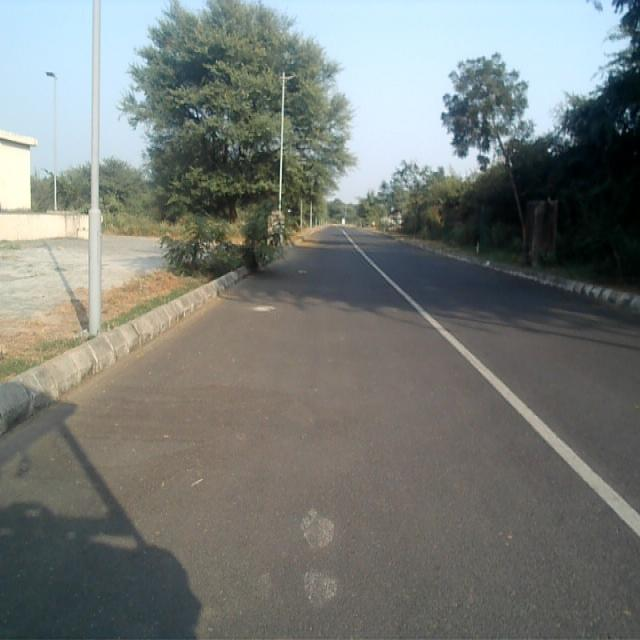lane: (0, 231, 640, 640)
